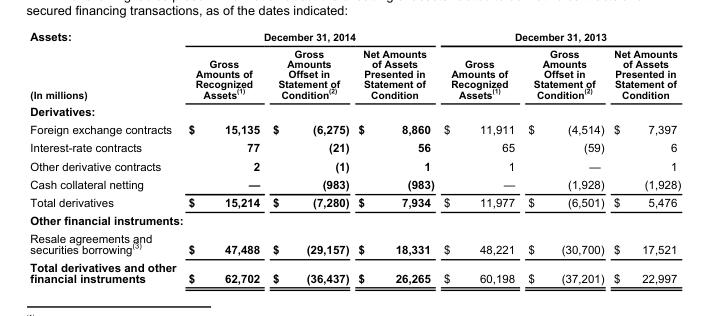table: (29, 29, 680, 284)
table column: (29, 29, 181, 284), (265, 29, 353, 284), (520, 29, 608, 284), (353, 29, 438, 284), (181, 29, 265, 284), (438, 29, 520, 284), (608, 29, 680, 284)
table column header: (29, 29, 680, 102)
table projected row header: (29, 102, 680, 120), (29, 210, 680, 228)
table row: (29, 44, 680, 102), (29, 228, 680, 258), (29, 258, 680, 284), (29, 156, 680, 175), (29, 102, 680, 120), (29, 120, 680, 138), (29, 138, 680, 156), (29, 192, 680, 210), (29, 210, 680, 228), (29, 175, 680, 192), (29, 29, 680, 44)
table spanning cell: (29, 29, 181, 102), (181, 29, 438, 44), (438, 29, 680, 44)
